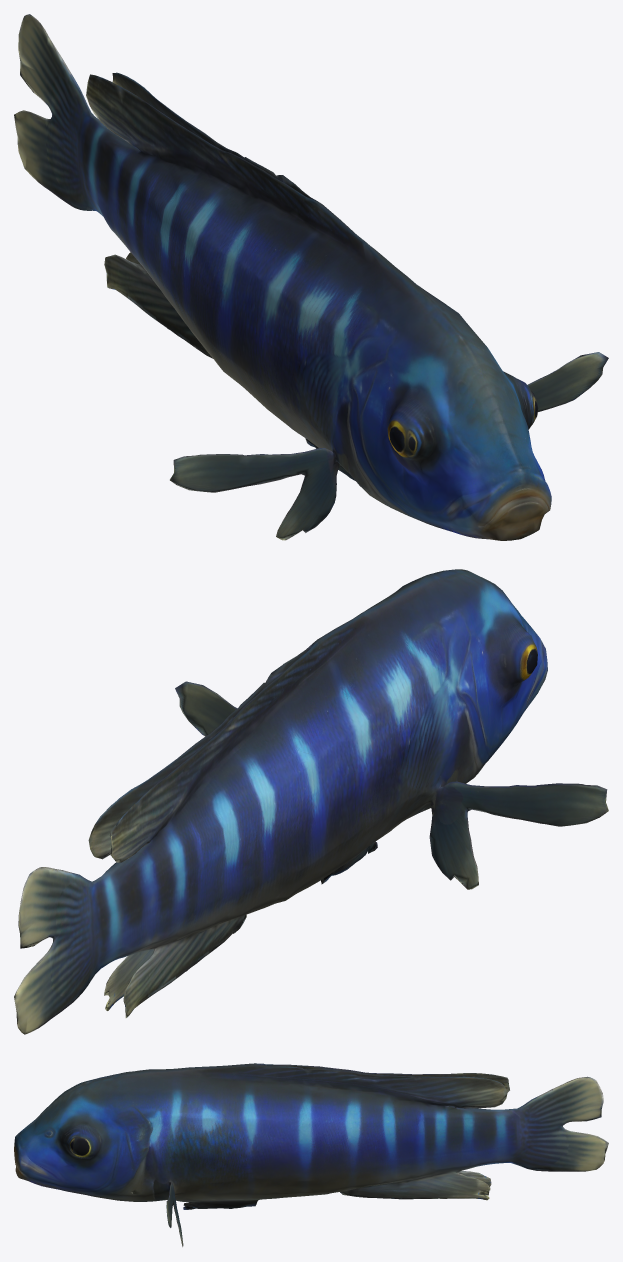
The model's file is demasoni_0604062936_texture.glb.
The picture shows the model from 3 angles, top to bottom: view 1: azimuth 30°, elevation 25°; view 2: azimuth 150°, elevation 25°; view 3: azimuth 270°, elevation 25°; orthographic projection. The views are drawn at different scales.
Size of the model in its own units: 0.9866 by 0.584 by 1.99.
1 material, 1 textured.
